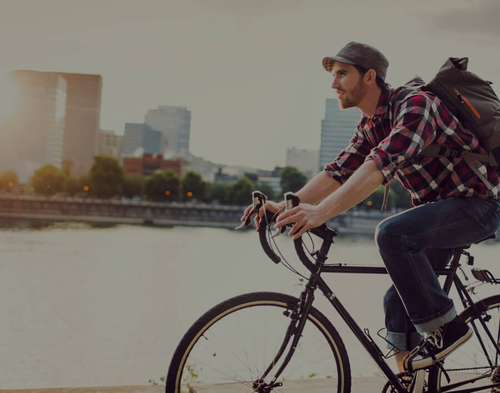bikerider: (147, 38, 499, 383)
